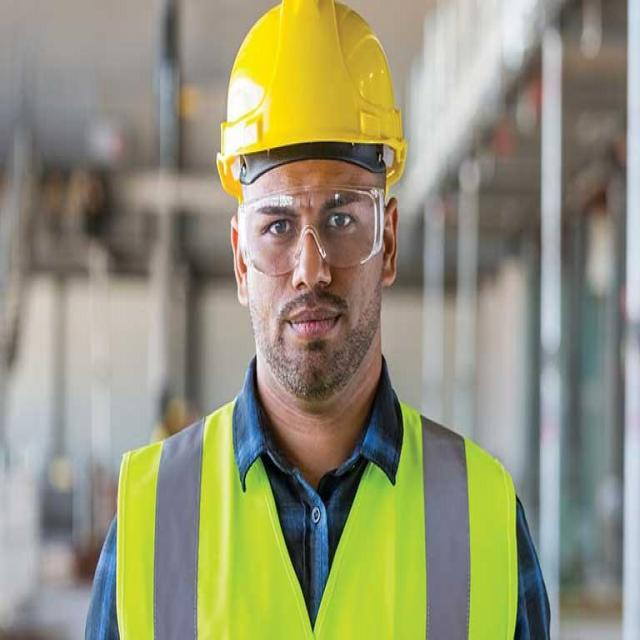Reflective-Jacket: (111, 400, 527, 640)
Safety-Helmet: (214, 1, 409, 177)
